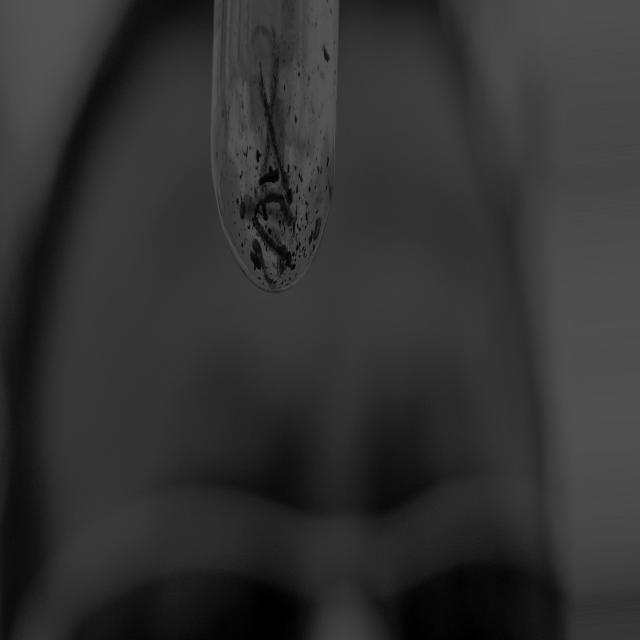larvas: (255, 71, 296, 202), (252, 214, 295, 265), (252, 242, 274, 285), (262, 192, 288, 225), (269, 50, 280, 122), (239, 193, 251, 220), (259, 169, 276, 183)
